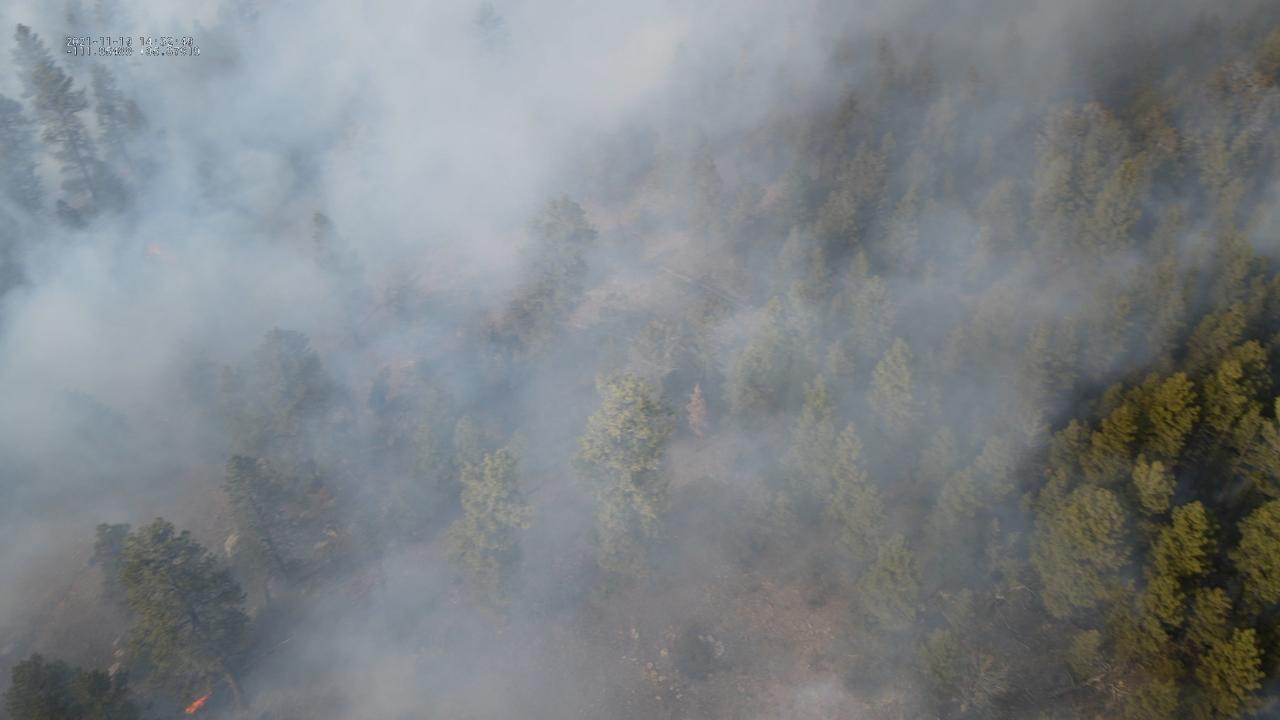fire: (183, 691, 214, 716)
smoke: (0, 0, 1280, 720)
